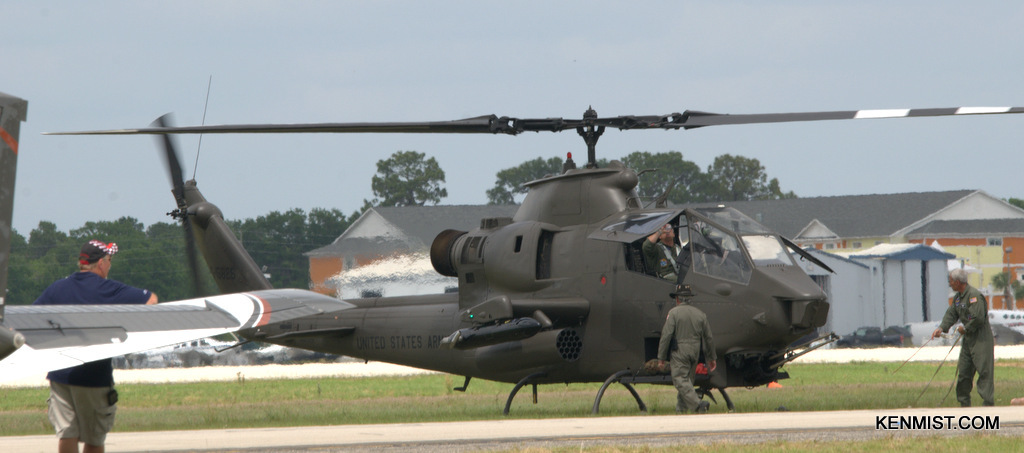Person: (33, 239, 159, 453), (931, 268, 995, 407), (657, 284, 718, 418), (642, 222, 688, 282)
